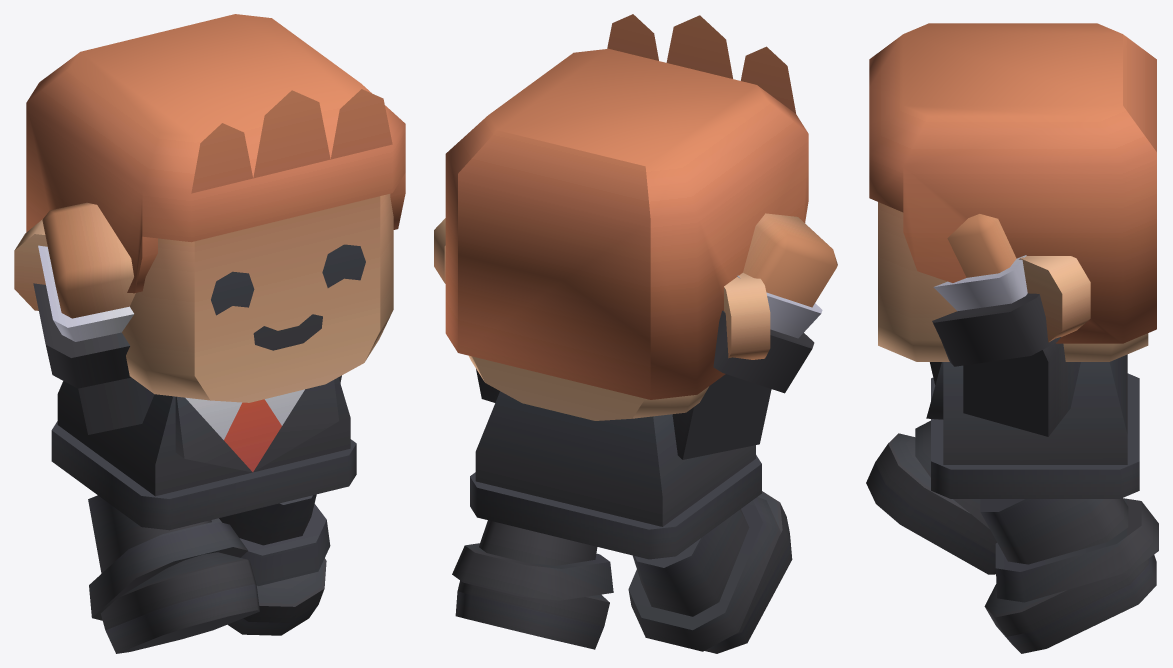
The model's file is walker-male-d-walk-b.glb.
3 renders of one model, left to right at view 1: azimuth 30°, elevation 25°; view 2: azimuth 150°, elevation 25°; view 3: azimuth 270°, elevation 25°, orthographic. The views are drawn at different scales.
Parts seen in each view (by area): view 1: character-male-d-walk-b; view 2: character-male-d-walk-b; view 3: character-male-d-walk-b.
Boxes of the visible parts, bbox=[...] form: character-male-d-walk-b: bbox=[14, 14, 405, 653]; character-male-d-walk-b: bbox=[434, 14, 837, 653]; character-male-d-walk-b: bbox=[866, 23, 1158, 653].
Size of the model in its own units: 0.4719 by 0.7603 by 0.3464.
Materials: 1 (1 with a texture image).
